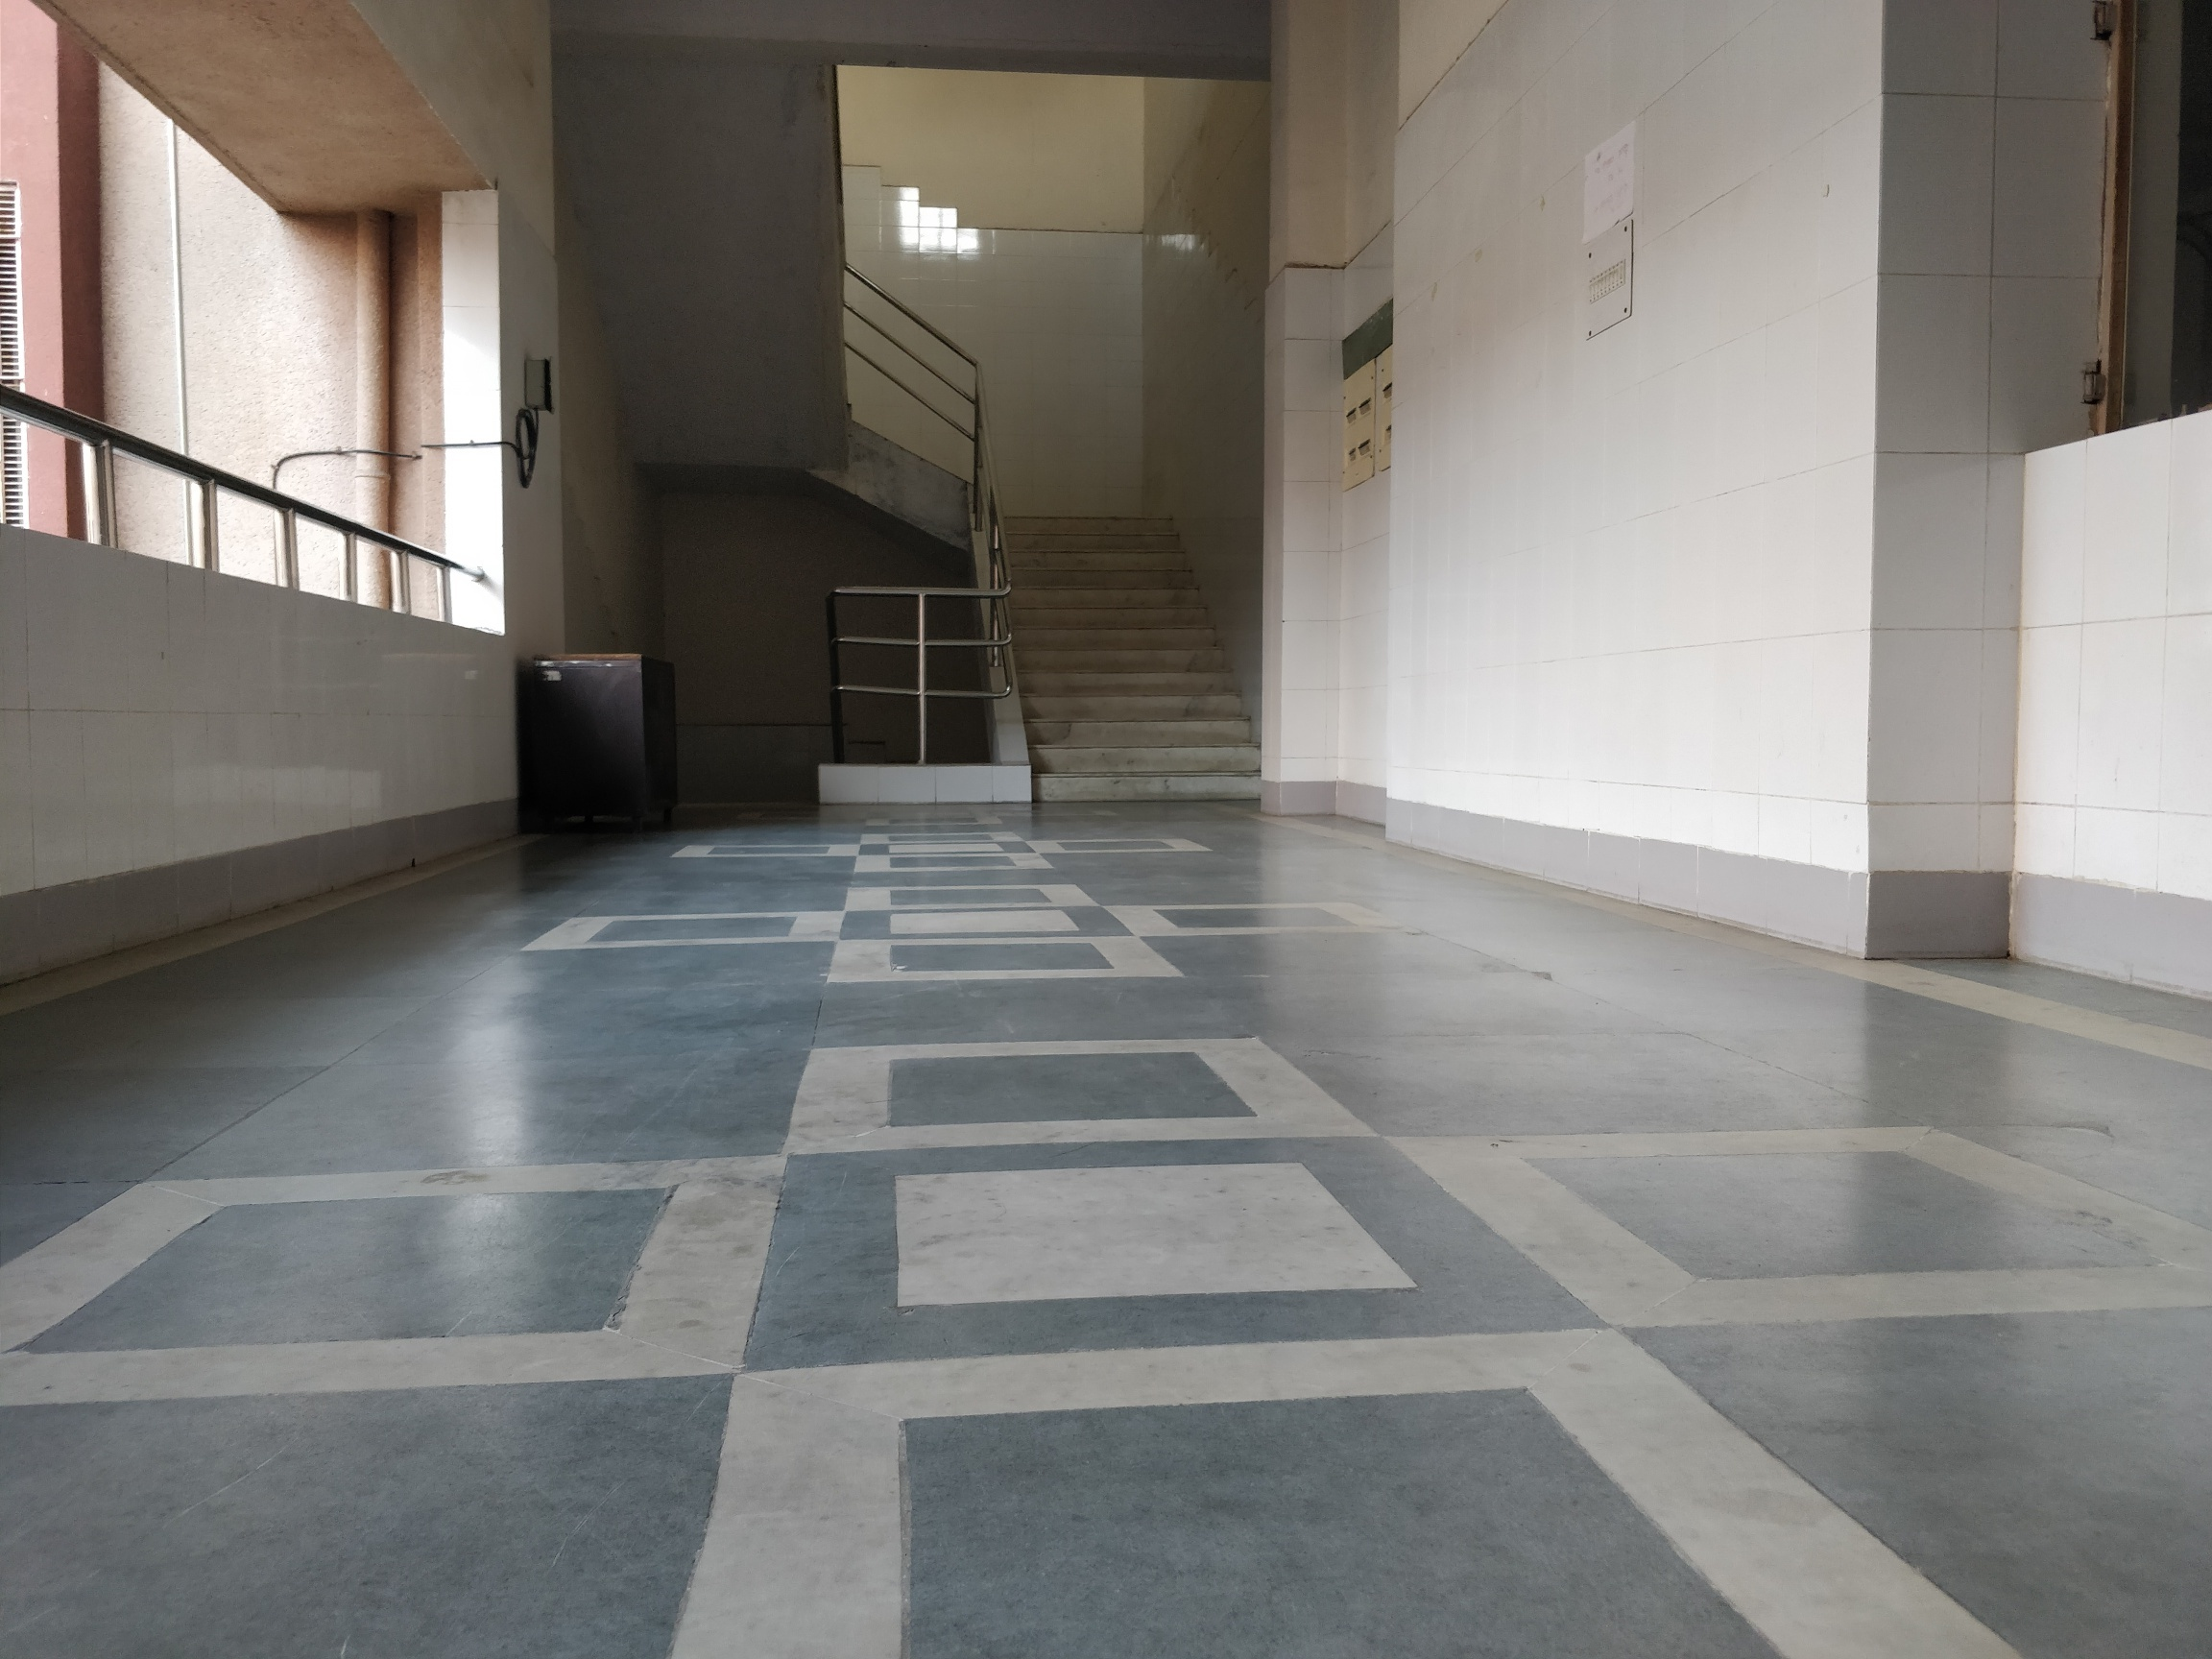stairs_up: (993, 507, 1278, 817)
